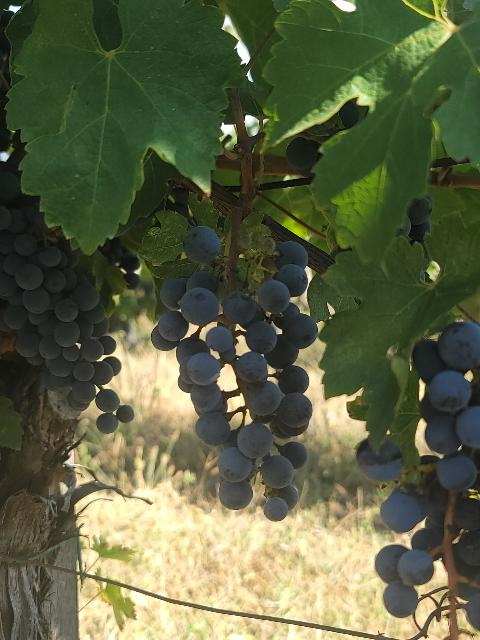grapes: (152, 242, 318, 521), (0, 171, 134, 432), (375, 321, 480, 640)
